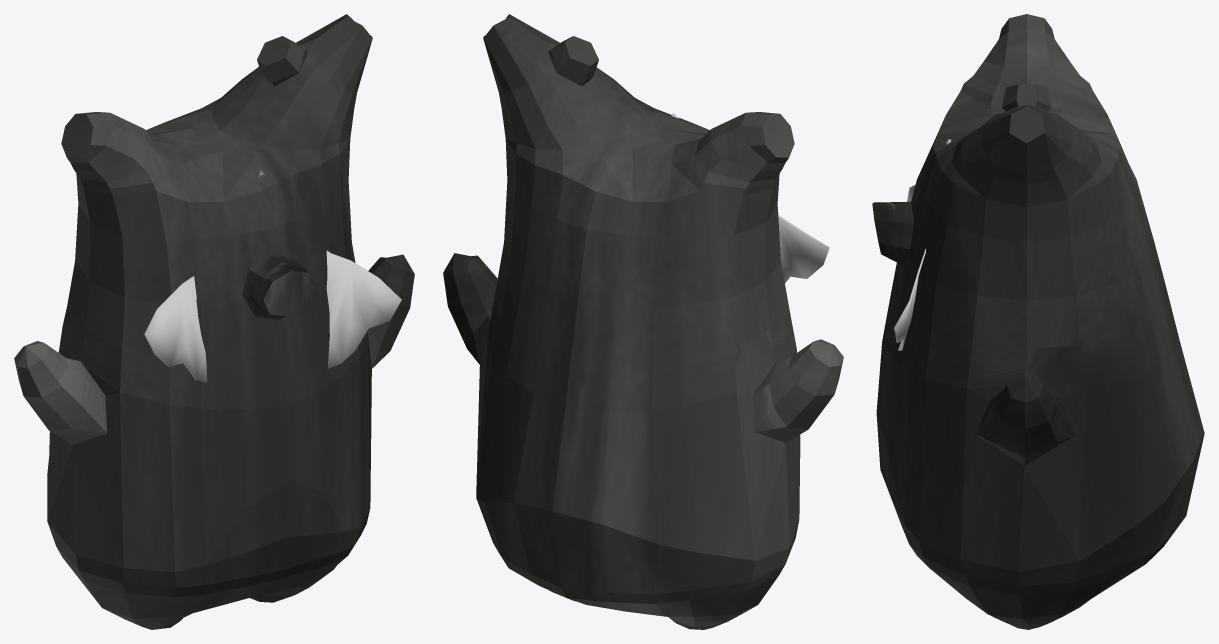
File: frame_0066.obj
3 renders of one model, left to right at view 1: azimuth 30°, elevation 25°; view 2: azimuth 150°, elevation 25°; view 3: azimuth 270°, elevation 25°, orthographic.
Parts seen in each view (by area): view 1: korok, leaf, nose; view 2: korok, leaf; view 3: korok, nose, leaf.
Part boxes in pixels (box(x1,y1,x2,y2)): korok: box(14, 14, 414, 629); leaf: box(144, 170, 401, 382); nose: box(242, 255, 313, 319); korok: box(443, 14, 843, 629); leaf: box(671, 113, 829, 282); korok: box(876, 14, 1204, 629); nose: box(872, 201, 913, 265); leaf: box(894, 139, 951, 350).
Size of the model in its own units: 1.6 by 2.19 by 1.18.
